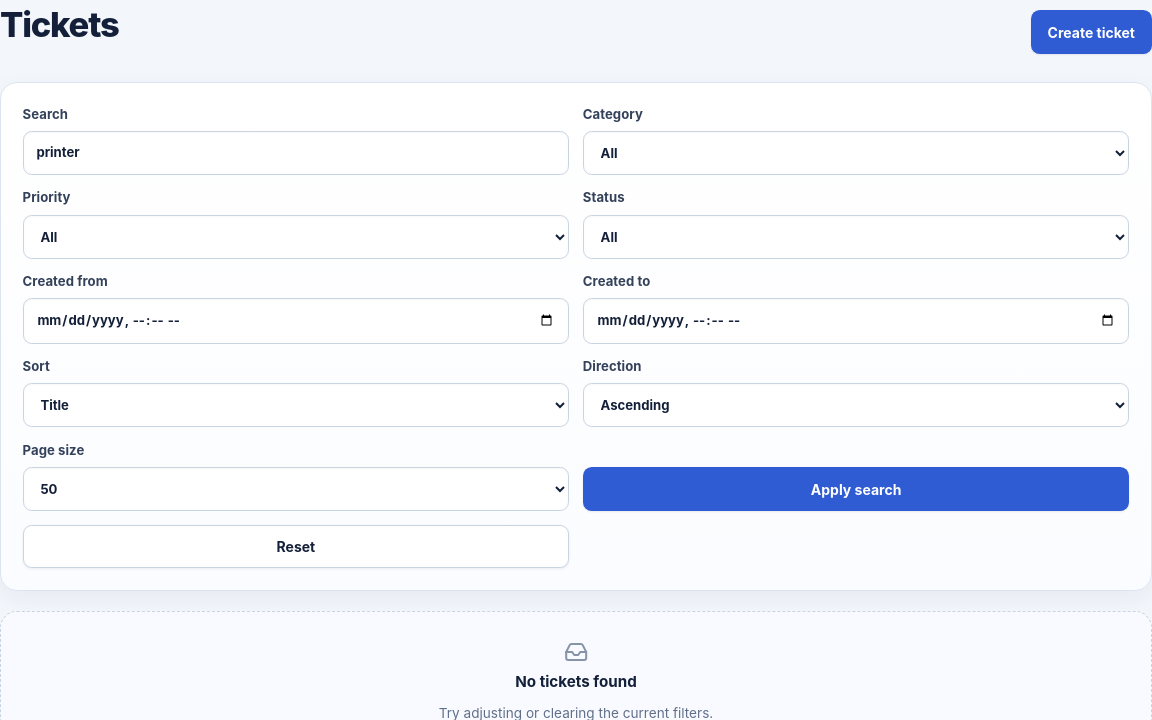
Scenario: TicketListPage focus refresh › refetches the current URL query on focus without resetting filters, page, or draft text
The width and height of the screenshot is (1152, 720).
In the field labelled "Search": [296, 153] box 23,131 -> 569,175, type " draft"
(page scrolled)
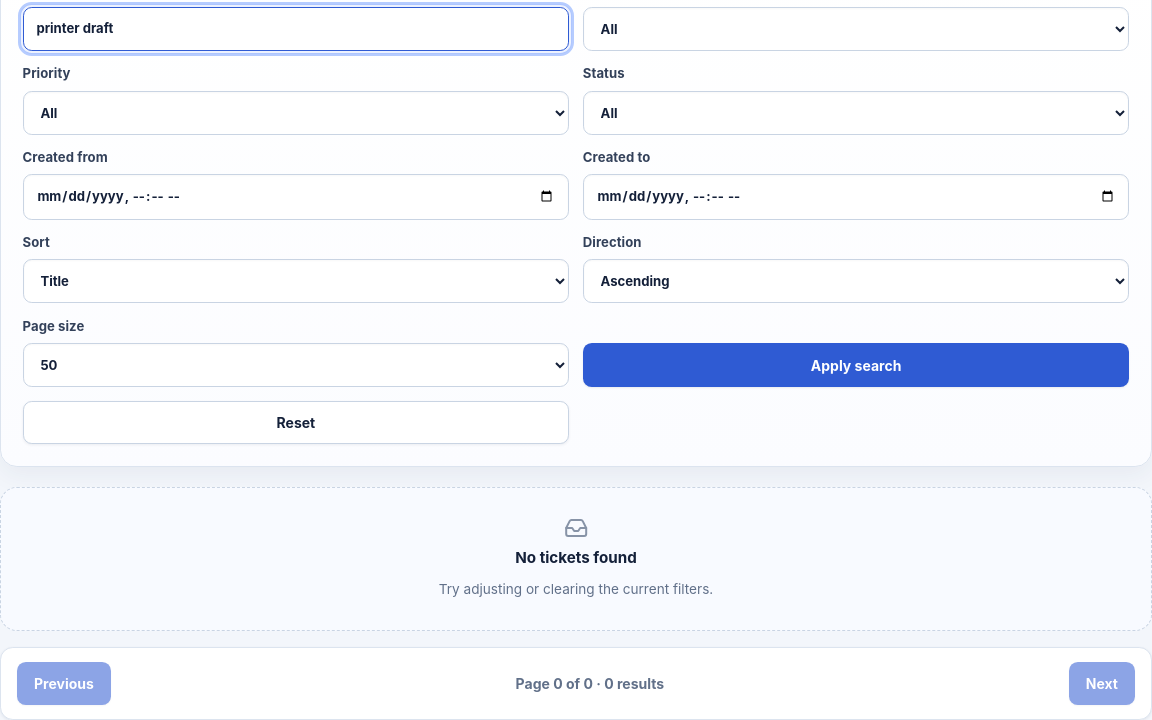
Expected: the text "Page 0 of 0 · 0 results" is shown, 516,673 -> 664,694
Now the field labelled "Search" holds "printer draft", box 23,7 -> 569,51
